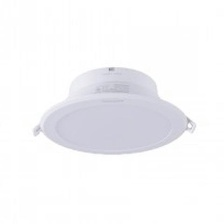light_bulb: (28, 58, 200, 161)
